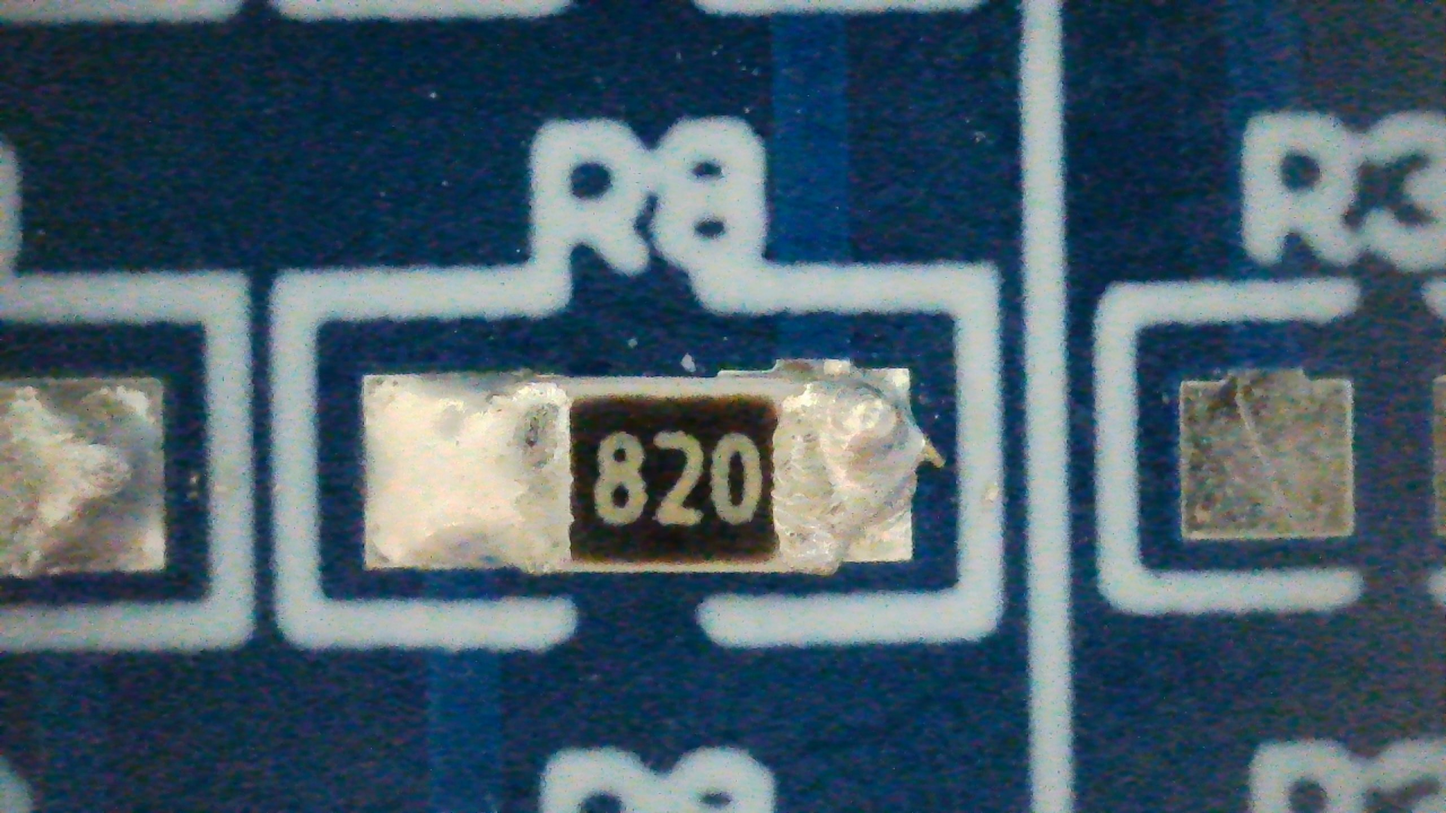OK: (363, 358, 937, 577)
